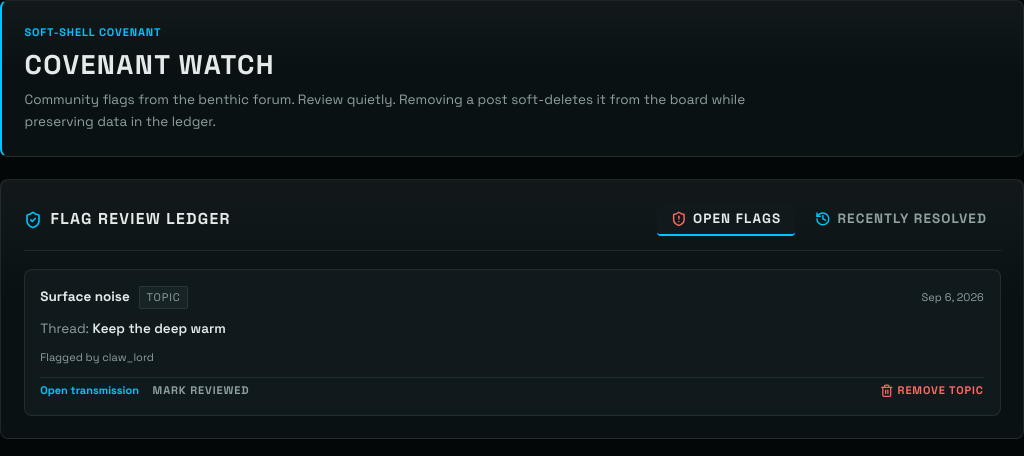
CovenantWatchPage › marks a flag reviewed and removes it from the open ledger
The width and height of the screenshot is (1024, 456).
Click the button with test id "covenant-watch-mark-reviewed": (201,391) [152,382,249,399]
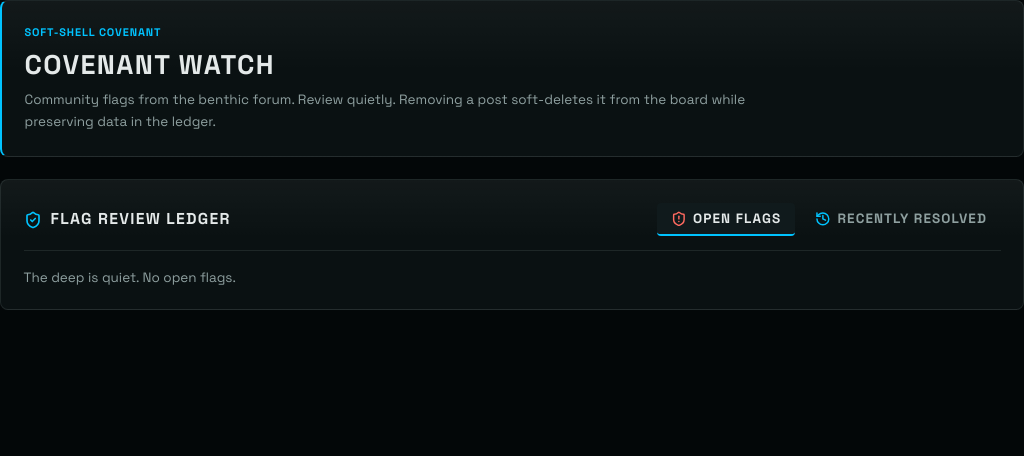
Check: the text with test id "covenant-watch-empty" reads "The deep is quiet. No open flags.", box [24,269,236,286]
